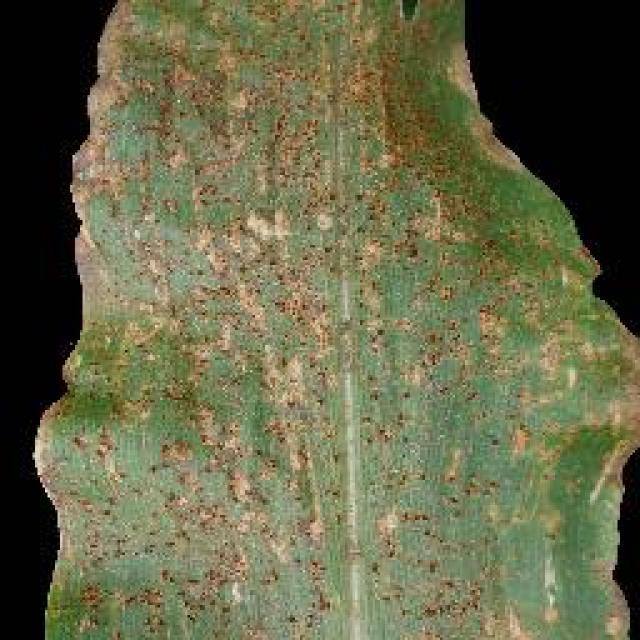Corn Common Rust: (85, 56, 636, 640)
